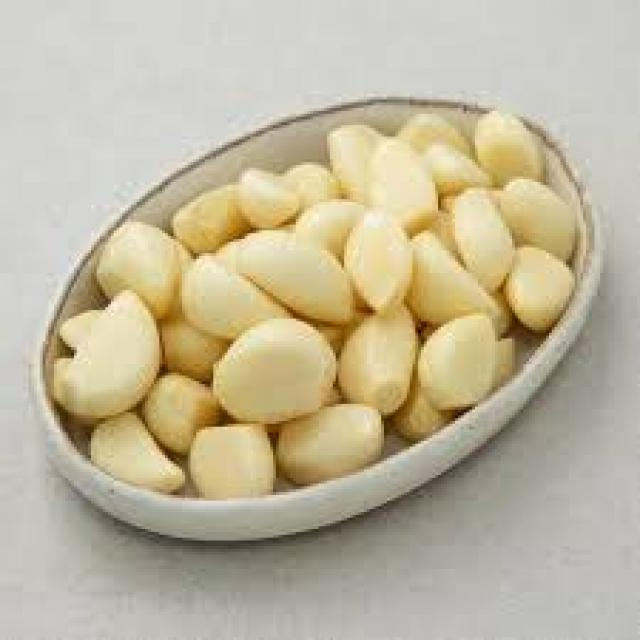garlic: (267, 173, 515, 410), (105, 222, 347, 404)
